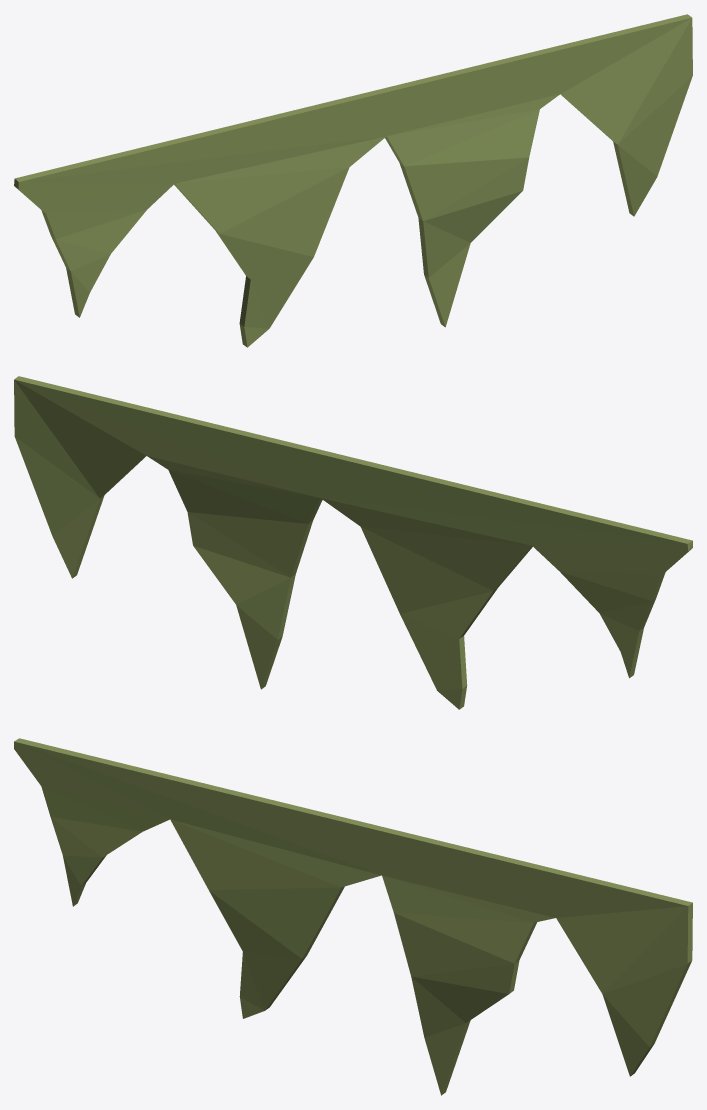
File: Wh_Creeper_01.fbx
The picture shows the model from 3 angles, top to bottom: view 1: azimuth 30°, elevation 25°; view 2: azimuth 150°, elevation 25°; view 3: azimuth 330°, elevation 25°; orthographic projection.
Visible parts, largest first — view 1: Plane.595; view 2: Plane.595; view 3: Plane.595.
Part boxes in pixels (<box>): Plane.595: <box>14,14,692,347</box>; Plane.595: <box>14,376,692,709</box>; Plane.595: <box>14,738,692,1095</box>.
Bounding box in the file's own units: 300 × 106 × 7.96.
